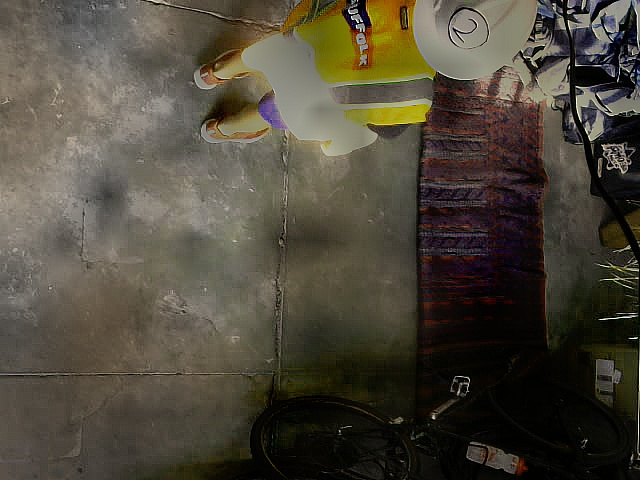two: (447, 7, 489, 50)
